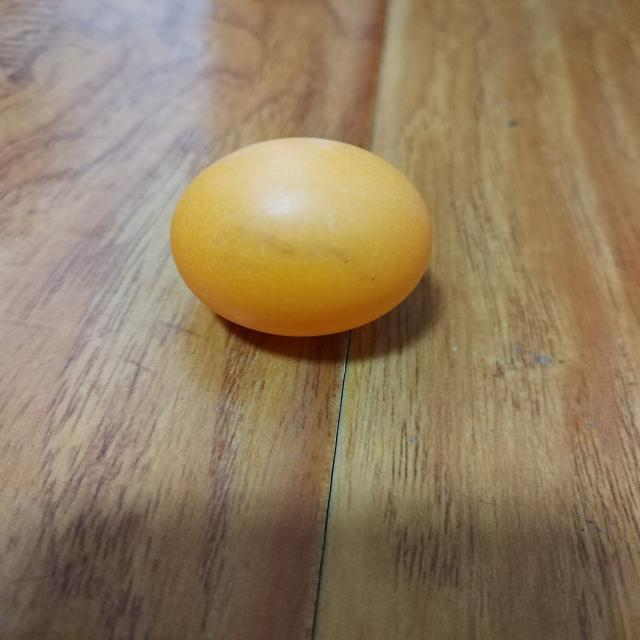oball: (168, 137, 434, 337)
